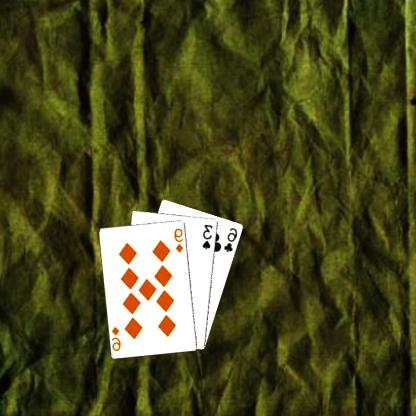3S: (202, 222, 216, 250)
6C: (223, 225, 241, 253)
9D: (173, 226, 186, 254), (111, 324, 124, 352)
